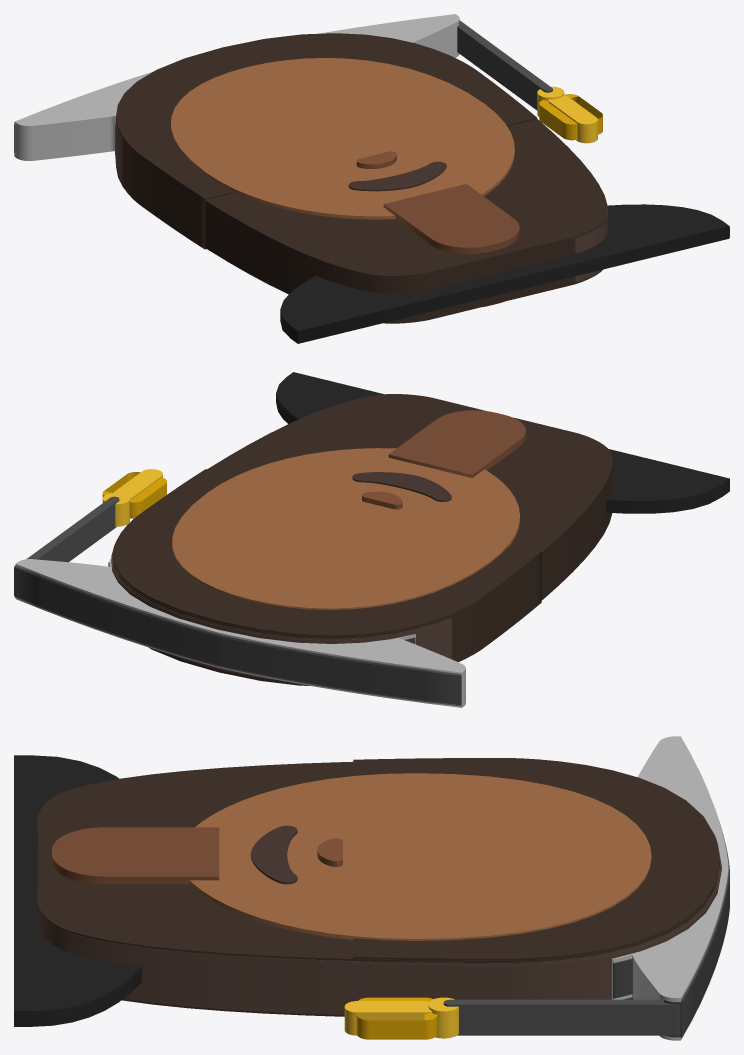
Rendered from emoji_u1f469_1f3fe_200d_1f393.glb.
3 renders of one model, top to bottom at view 1: azimuth 30°, elevation 25°; view 2: azimuth 150°, elevation 25°; view 3: azimuth 270°, elevation 25°, orthographic. The views are drawn at different scales.
Visible parts, largest first — view 1: emoji_u1f469_1f3fe_200d_1f393; view 2: emoji_u1f469_1f3fe_200d_1f393; view 3: emoji_u1f469_1f3fe_200d_1f393.
Part boxes in pixels (<box>): emoji_u1f469_1f3fe_200d_1f393: <box>14,14,729,343</box>; emoji_u1f469_1f3fe_200d_1f393: <box>14,372,729,707</box>; emoji_u1f469_1f3fe_200d_1f393: <box>14,736,729,1040</box>.
Bounding box in the file's own units: 0.0302 × 0.004 × 0.0336.
